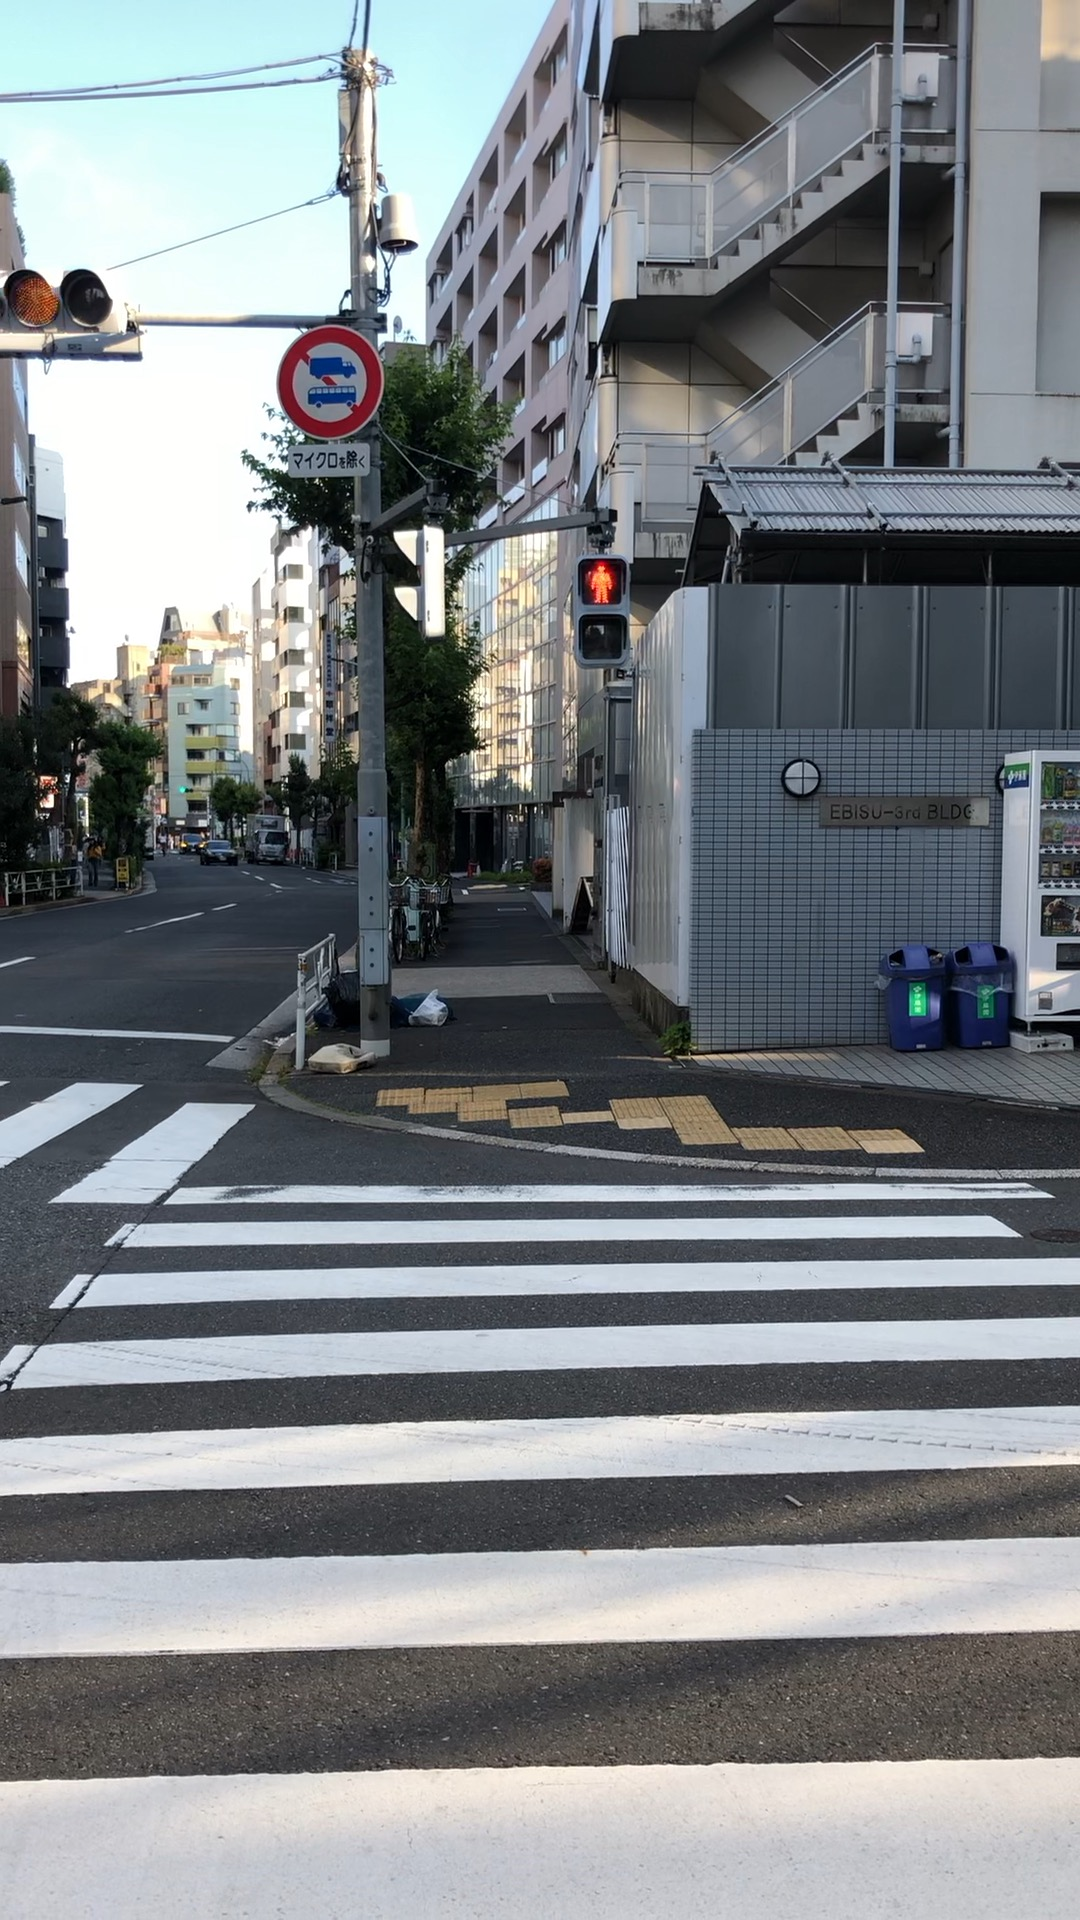red: (571, 554, 632, 667)
